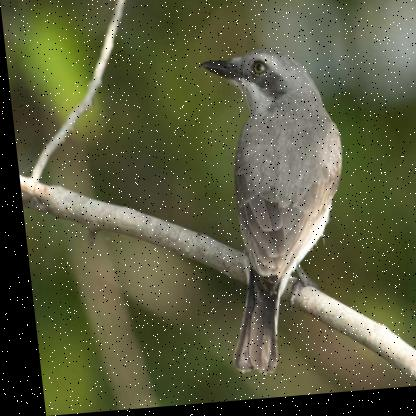Burung: (195, 50, 356, 380)
